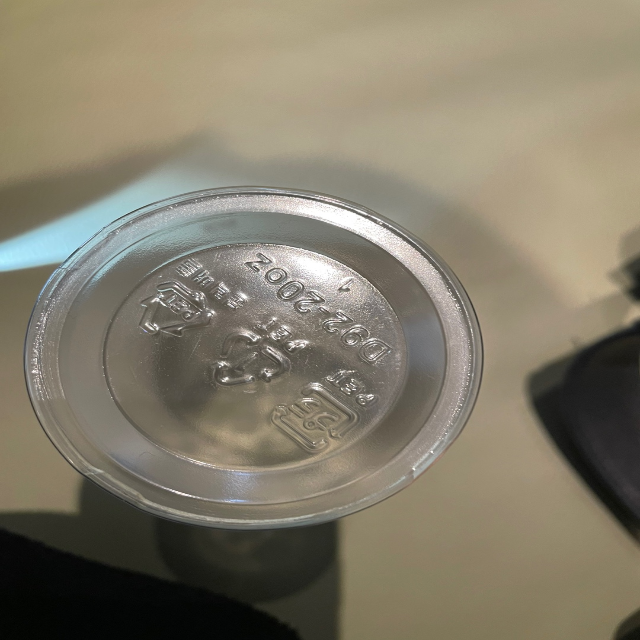pet: (128, 254, 244, 341), (264, 362, 380, 448), (205, 312, 314, 393)
